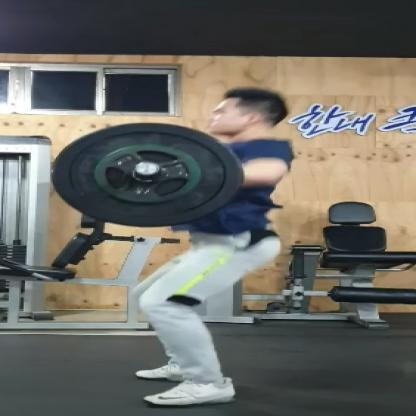barbell: (50, 121, 247, 230)
